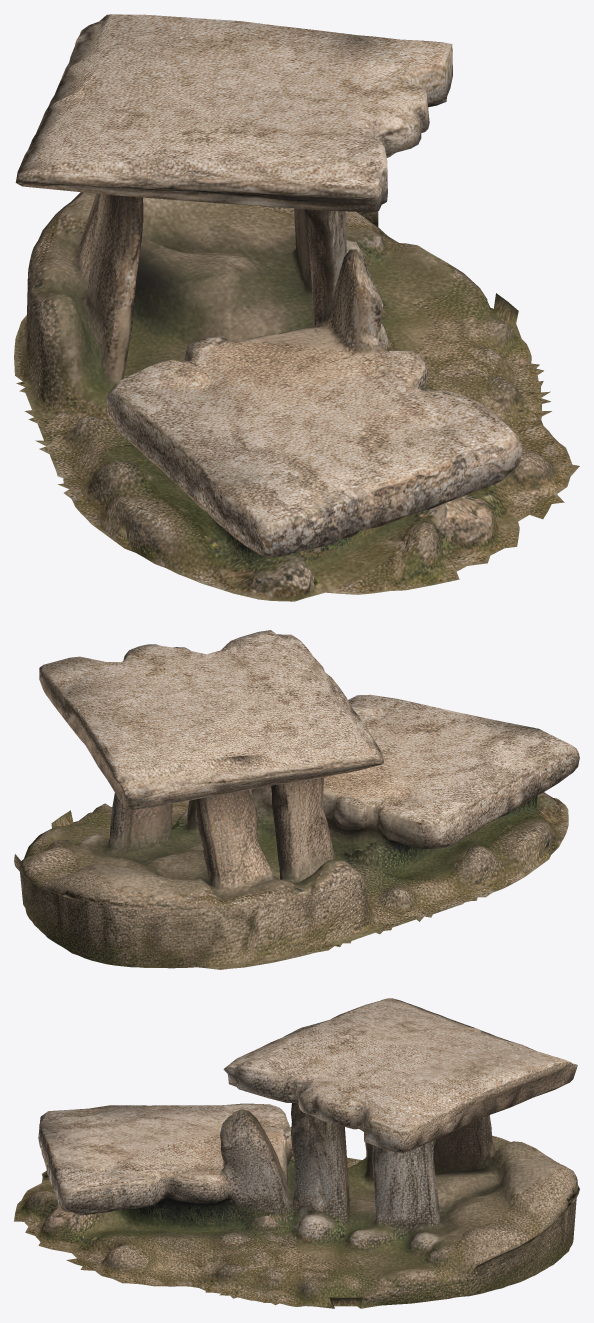
The model's file is dolmen.glb.
3 views of the same model, one above another, from view 1: azimuth 30°, elevation 25°; view 2: azimuth 150°, elevation 25°; view 3: azimuth 270°, elevation 25° (orthographic). The views are drawn at different scales.
Visible parts, largest first — view 1: tripo_node_99532074-e285-4eda-ab7c-ad5d5f9ad43e; view 2: tripo_node_99532074-e285-4eda-ab7c-ad5d5f9ad43e; view 3: tripo_node_99532074-e285-4eda-ab7c-ad5d5f9ad43e.
Boxes of the visible parts, x1=… form: tripo_node_99532074-e285-4eda-ab7c-ad5d5f9ad43e: x1=14, y1=14, x2=579, y2=601; tripo_node_99532074-e285-4eda-ab7c-ad5d5f9ad43e: x1=14, y1=630, x2=579, y2=969; tripo_node_99532074-e285-4eda-ab7c-ad5d5f9ad43e: x1=14, y1=998, x2=579, y2=1308.
Size of the model in its own units: 0.7207 by 0.3652 by 0.998.
1 material, 1 textured.
